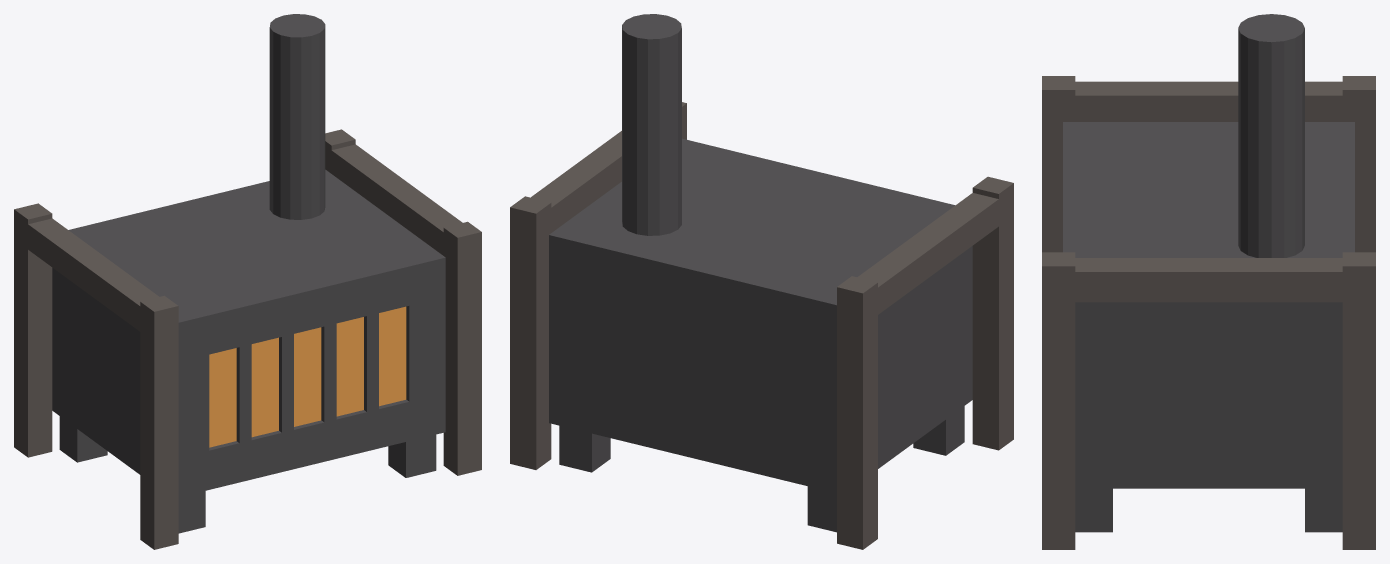
Rendered from FlametalHeater.fbx.
3 renders of one model, left to right at view 1: azimuth 30°, elevation 25°; view 2: azimuth 150°, elevation 25°; view 3: azimuth 270°, elevation 25°, orthographic. The views are drawn at different scales.
Visible parts, largest first — view 1: ext_heater_box, ext_heater_frame, ext_heater_flue, ext_heater_glass; view 2: ext_heater_box, ext_heater_frame, ext_heater_flue; view 3: ext_heater_box, ext_heater_frame, ext_heater_flue.
Boxes of the visible parts, x1,y1,x2,y2 form: ext_heater_box: [52, 169, 445, 497]; ext_heater_frame: [14, 129, 481, 549]; ext_heater_flue: [59, 14, 436, 533]; ext_heater_glass: [209, 306, 406, 447]; ext_heater_box: [549, 138, 972, 493]; ext_heater_frame: [510, 102, 1013, 549]; ext_heater_flue: [559, 14, 964, 532]; ext_heater_box: [1063, 122, 1354, 488]; ext_heater_frame: [1042, 76, 1375, 549]; ext_heater_flue: [1075, 14, 1342, 532].
Size of the model in its own units: 1.08 by 1.25 by 0.8.
